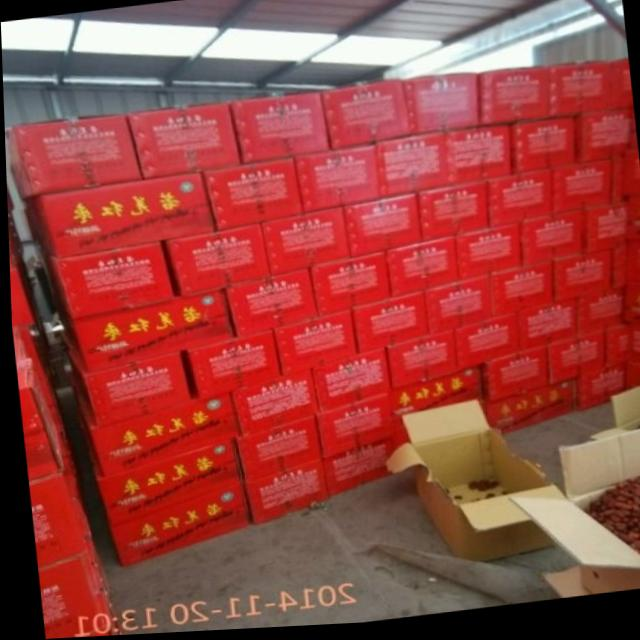box: (382, 406, 564, 568), (505, 432, 640, 600), (67, 386, 238, 478), (38, 173, 213, 260), (69, 291, 233, 373), (94, 442, 241, 528), (106, 486, 252, 568), (4, 115, 141, 200), (63, 343, 188, 426), (53, 243, 171, 321), (9, 326, 65, 487), (124, 104, 240, 180), (164, 225, 269, 299), (200, 160, 303, 233), (228, 94, 330, 167), (25, 455, 89, 570), (33, 537, 105, 639), (220, 272, 318, 342), (183, 333, 279, 402), (387, 369, 481, 437), (320, 84, 411, 154), (258, 210, 349, 279), (292, 145, 379, 217), (226, 371, 316, 439), (230, 420, 321, 486), (269, 311, 353, 379), (241, 463, 327, 528), (310, 394, 392, 462), (306, 255, 390, 320), (479, 383, 576, 438), (307, 352, 388, 416), (343, 198, 421, 262), (348, 294, 426, 357), (372, 137, 445, 203), (381, 334, 458, 395), (414, 183, 488, 246), (404, 78, 478, 139), (478, 71, 550, 131), (383, 241, 455, 301), (319, 440, 392, 499), (549, 161, 621, 220), (443, 128, 510, 191), (420, 280, 491, 339), (6, 193, 37, 328), (476, 350, 548, 406), (508, 120, 574, 180), (453, 226, 518, 286), (486, 173, 550, 233), (487, 265, 551, 323), (517, 215, 579, 272), (452, 318, 516, 372), (514, 303, 576, 358), (573, 112, 632, 169), (549, 253, 610, 307), (547, 336, 602, 388), (587, 392, 640, 445), (578, 204, 625, 261), (574, 292, 626, 341), (574, 370, 622, 416), (549, 68, 584, 124), (582, 66, 614, 118), (74, 602, 116, 638), (610, 65, 632, 115), (601, 330, 625, 373), (609, 247, 627, 296), (621, 158, 640, 204), (623, 204, 640, 247), (625, 244, 640, 291), (624, 288, 640, 332), (625, 330, 640, 372), (621, 369, 640, 395), (628, 112, 635, 158)
